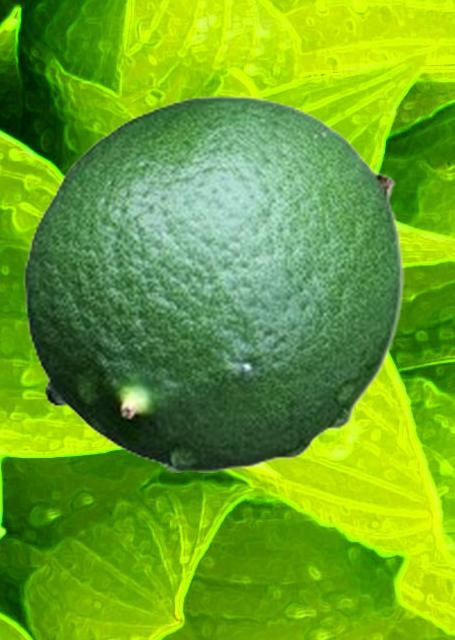calamansi: (23, 94, 403, 471)
